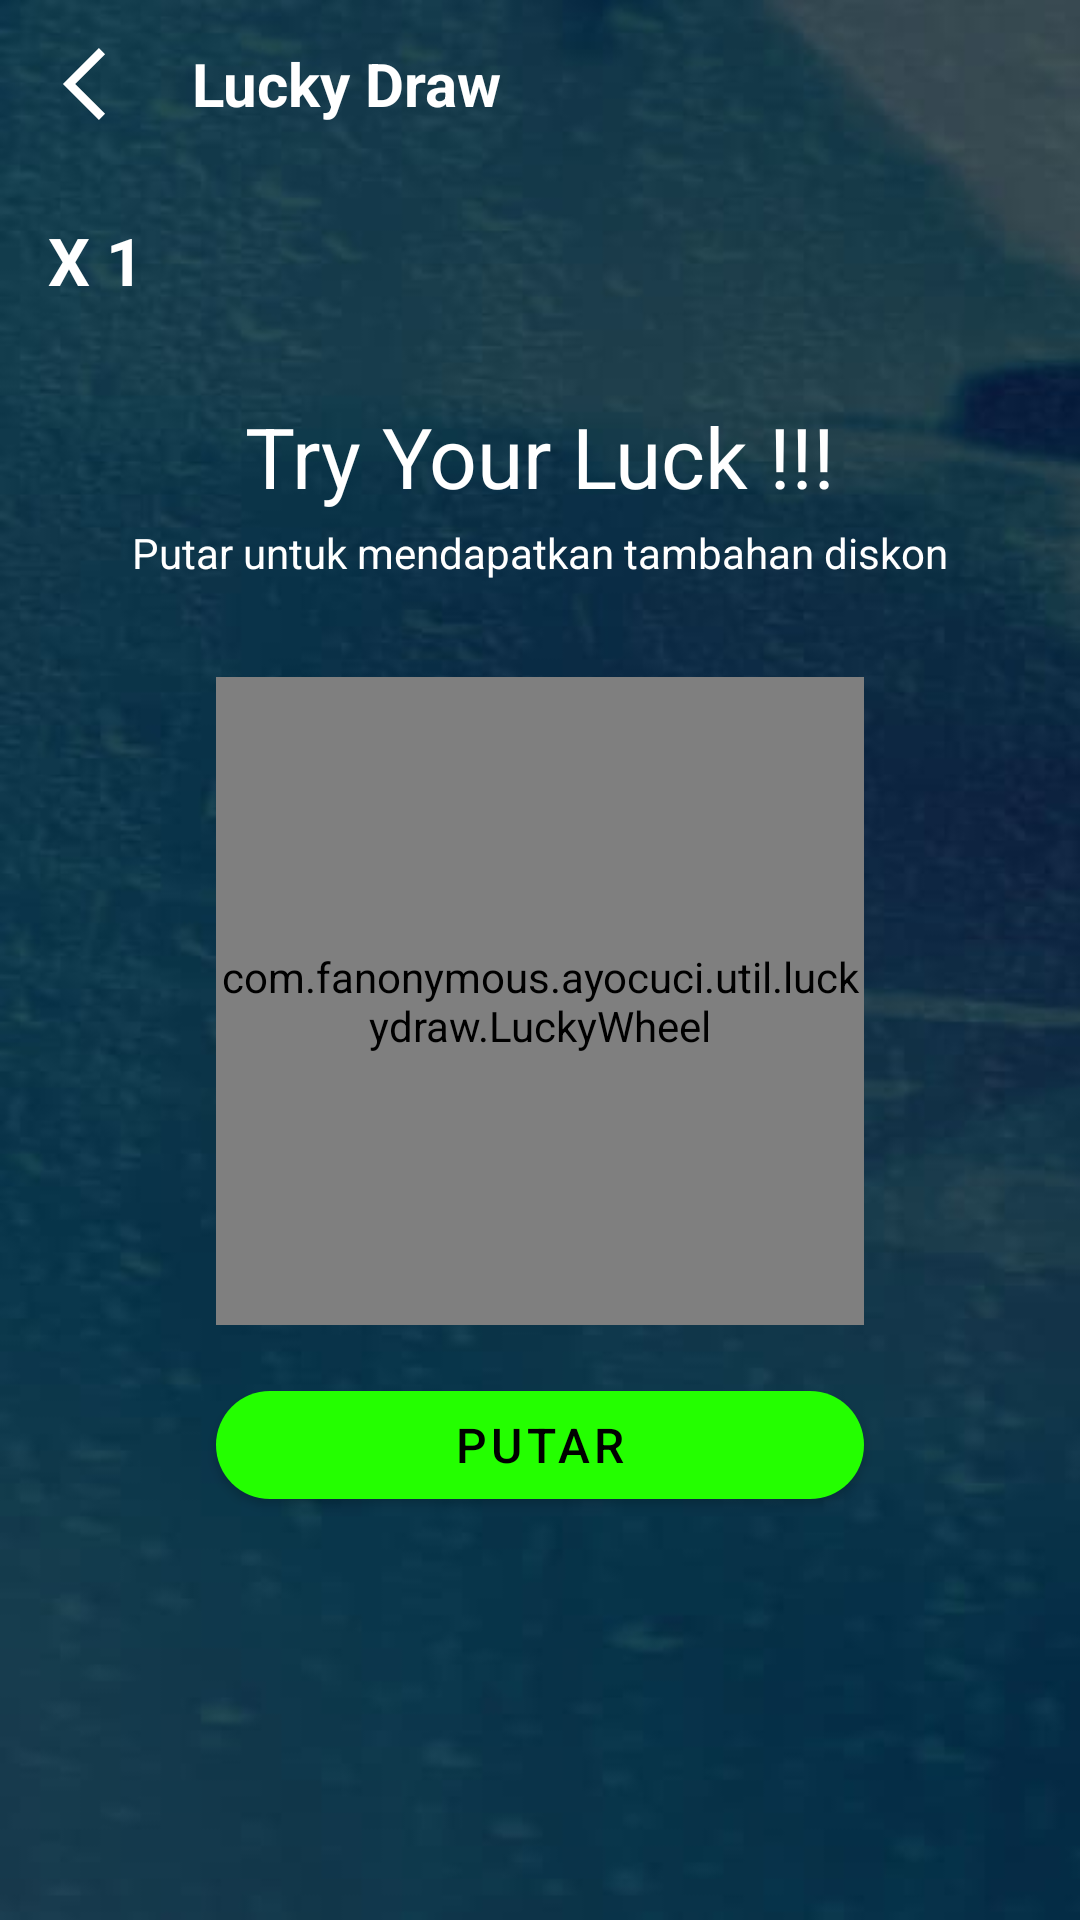

Locate icon controls on the screen. Image size 1080*1920, boxes as [x1, y1, x2, y2].
back arrow: [63, 48, 105, 120]
